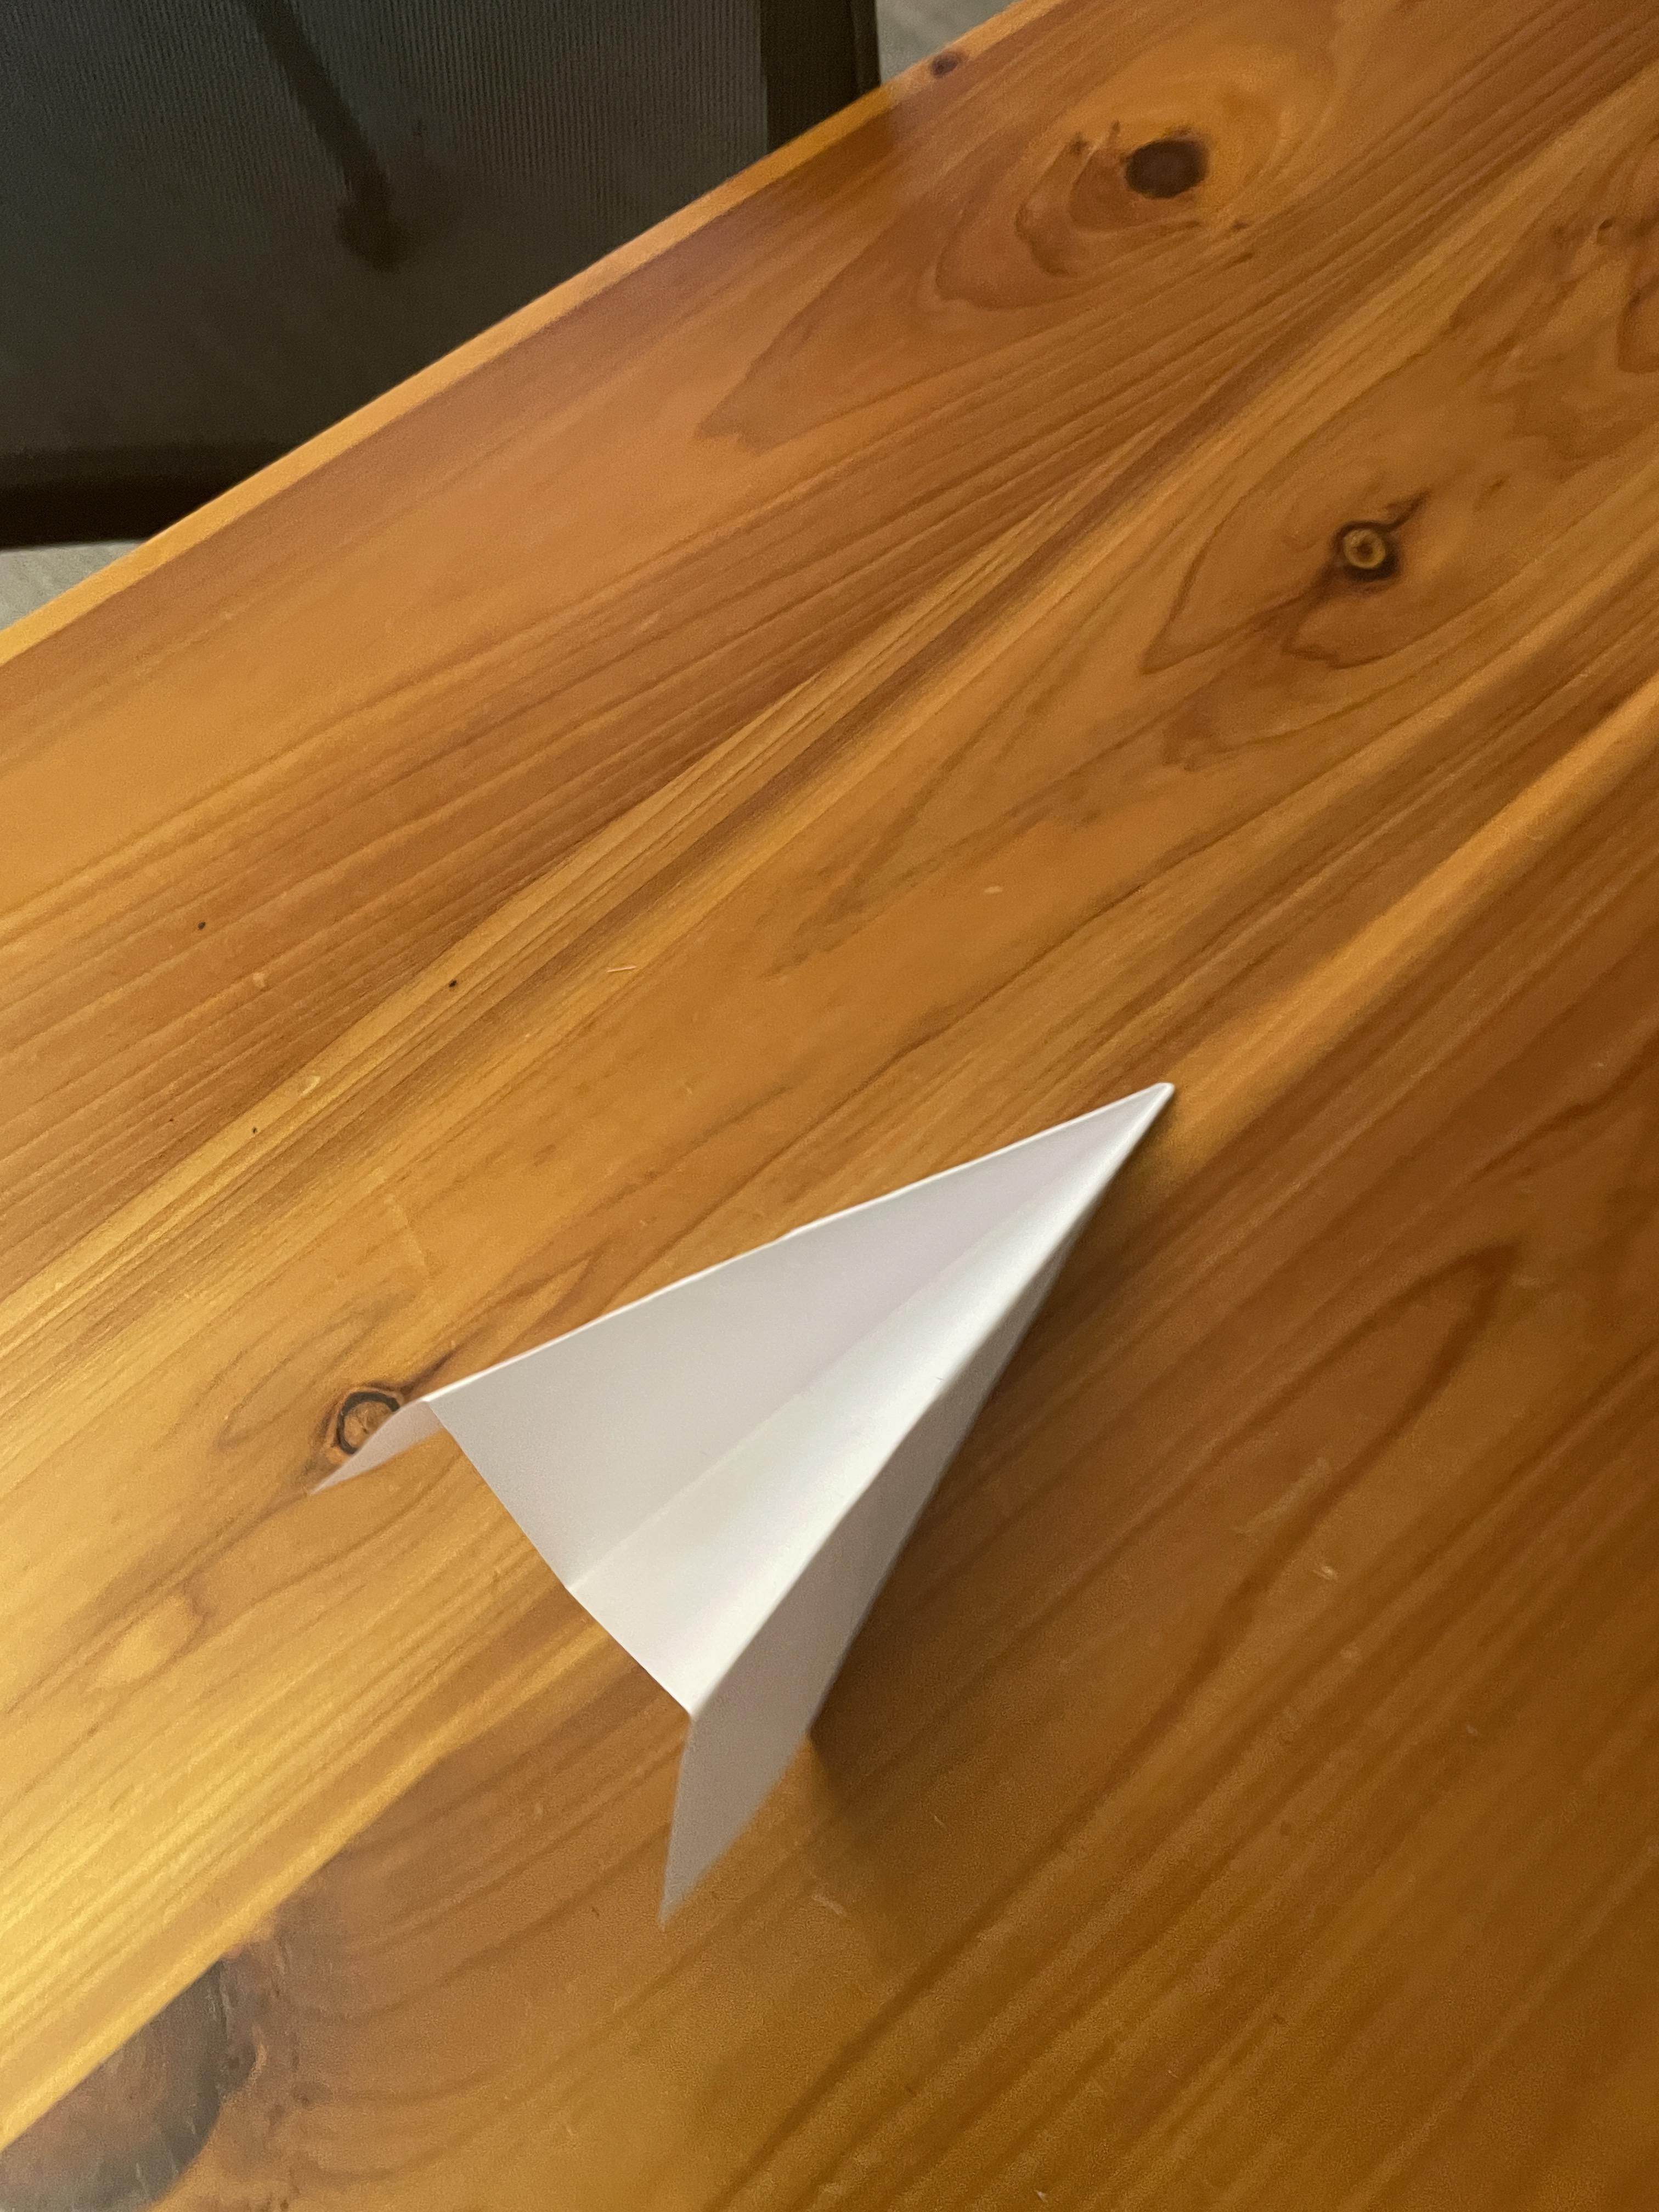shape_3: (329, 923, 1267, 1963)
